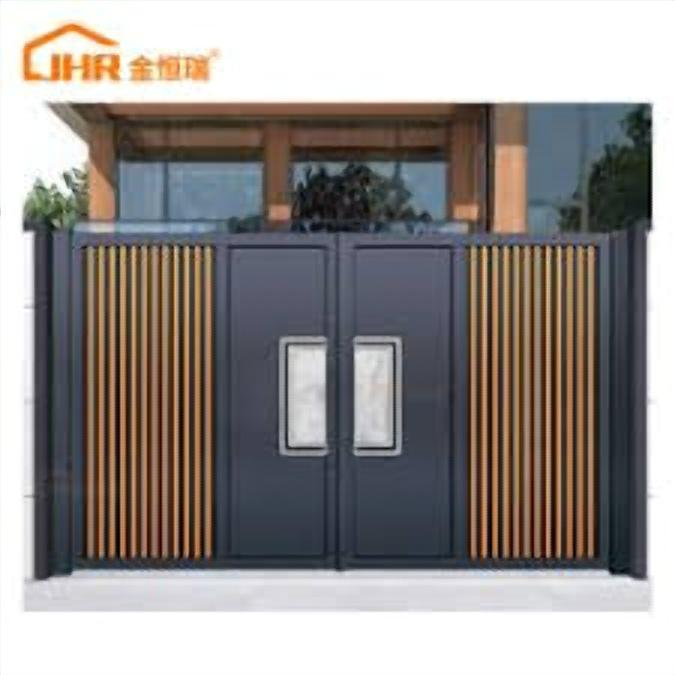Building: (43, 99, 653, 352)
Gate: (35, 231, 646, 583)
Window-without-grill: (116, 148, 448, 252)
